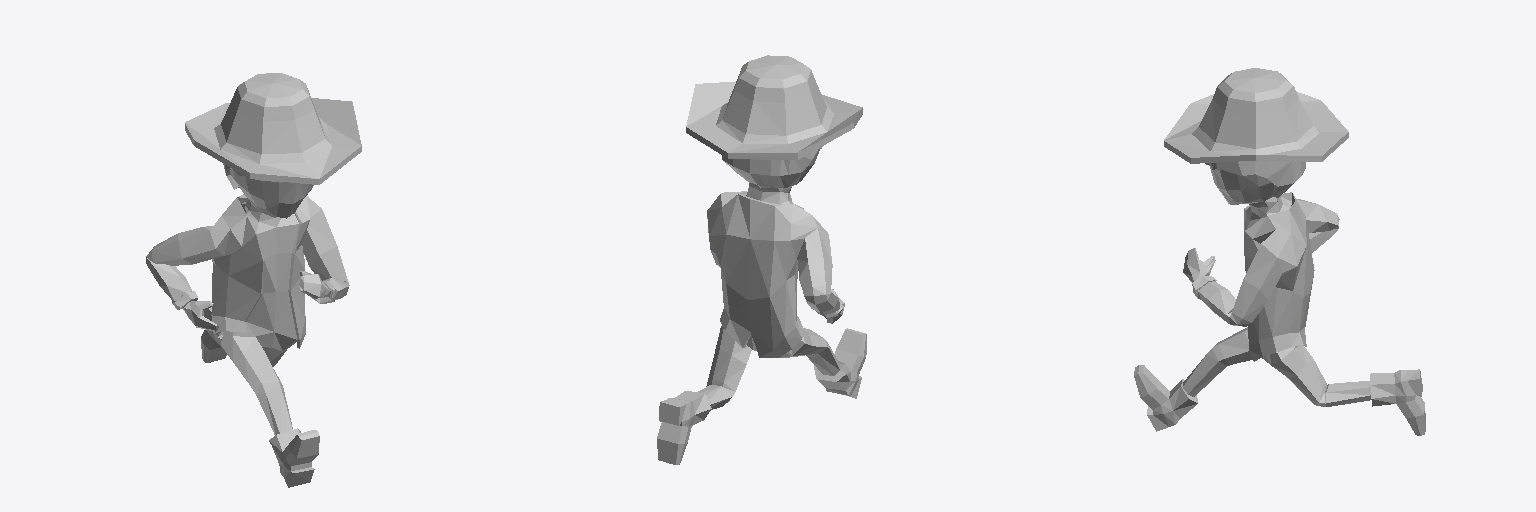
File: char_11.obj
The picture shows the model from 3 angles: view 1: azimuth 30°, elevation 25°; view 2: azimuth 150°, elevation 25°; view 3: azimuth 270°, elevation 25°; orthographic projection.
Parts seen in each view (by area): view 1: Cube; view 2: Cube; view 3: Cube.
Boxes of the visible parts, x1,y1,x2,y2 form: Cube: [146, 73, 361, 487]; Cube: [657, 55, 866, 464]; Cube: [1134, 68, 1425, 435].
Bounding box in the file's own units: 3.72 × 7.59 × 5.55.